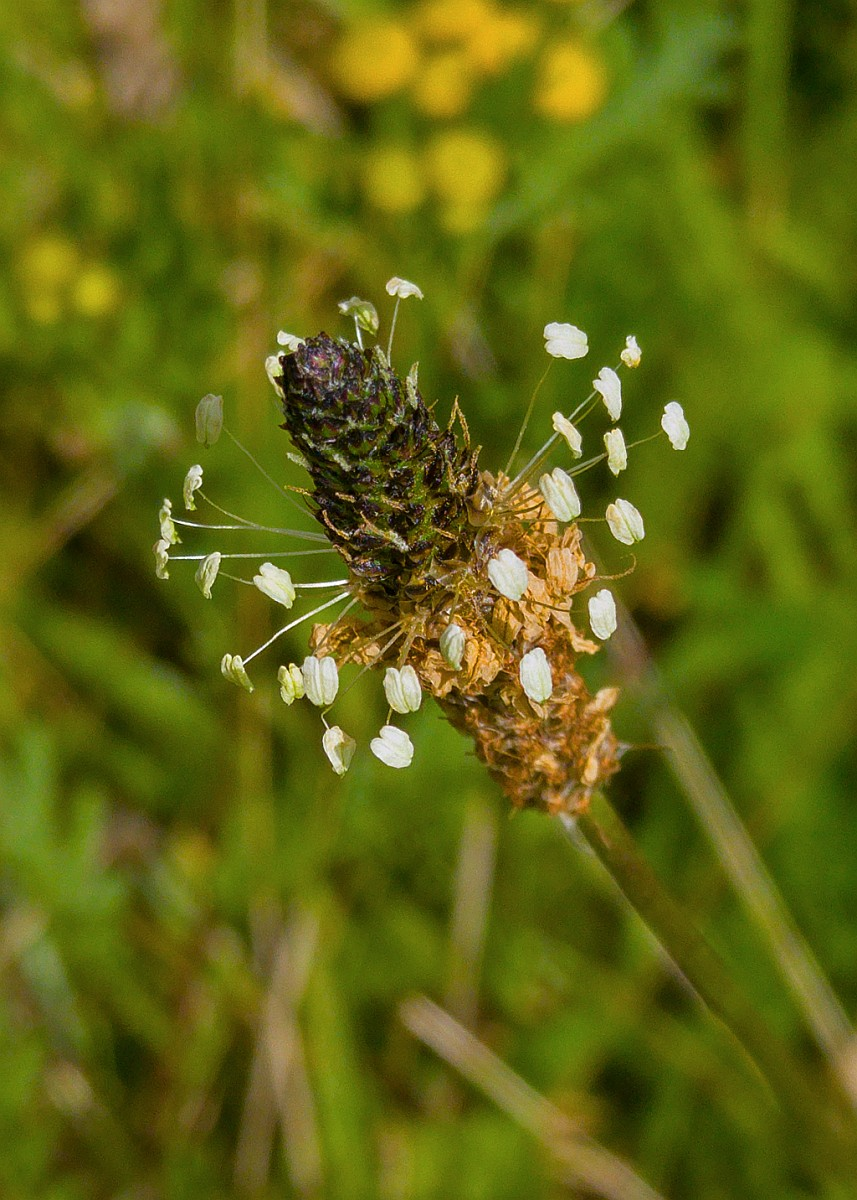buckhorn plantain: (139, 287, 721, 915)
